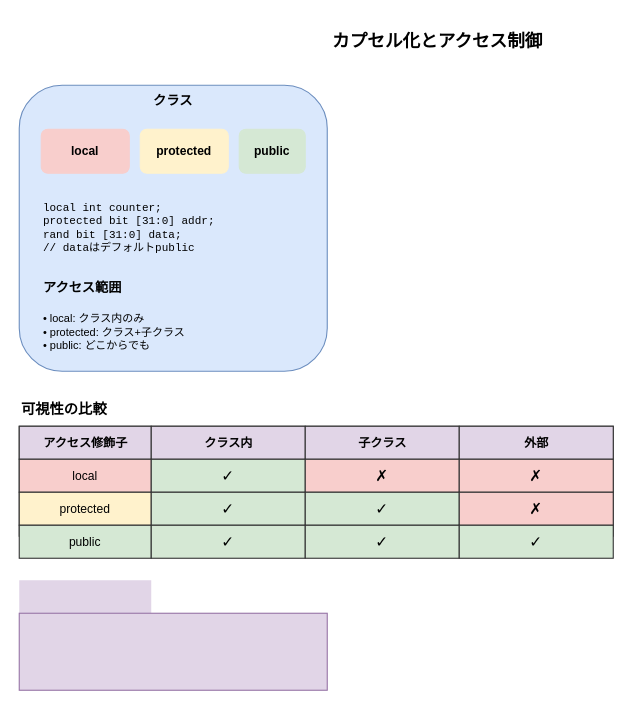
Image size: 633x710. Some labels were removed from this diagram. The centre of each missing label's shape, as x and y in pixels:
• データメンバは原則private/protected • 外部アクセスはメソッド経由 • カプセル化で実装の詳細を隠蔽 • インターフェースを明確に定義: (x=172, y=651)
ベストプラクティス: (x=85, y=596)
